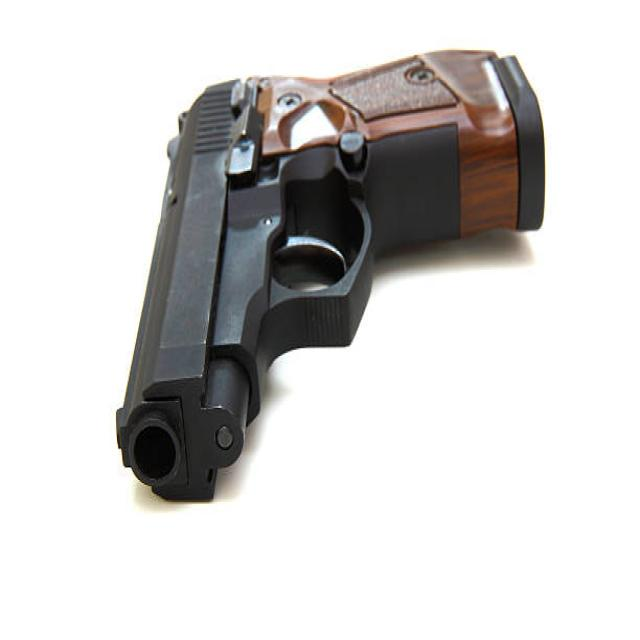pistol: (113, 44, 555, 524)
